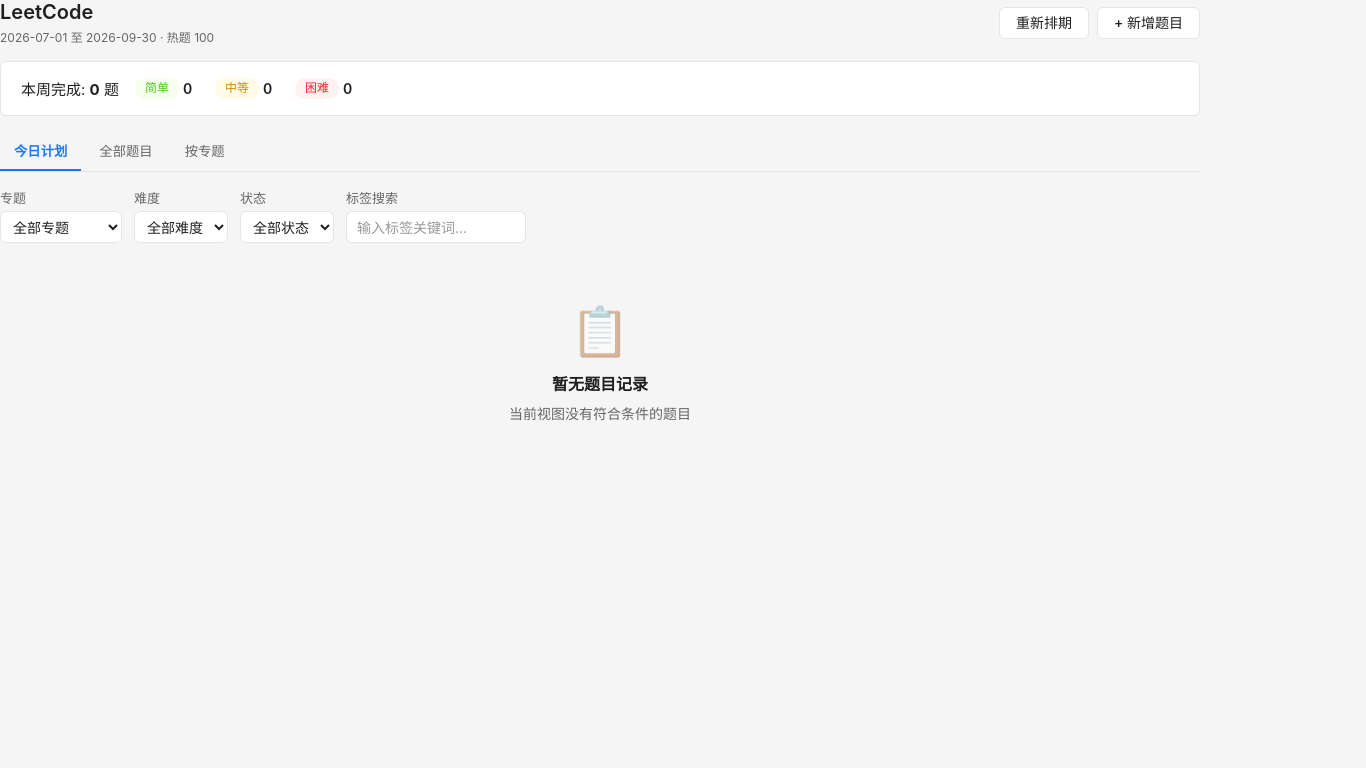
Test case: LeetCodePage › opens the reschedule dialog when a schedule already exists
The image size is (1366, 768).
Step 1. Click the button "重新排期" → (1044, 22), box top-left (999, 6), bottom-right (1089, 38)
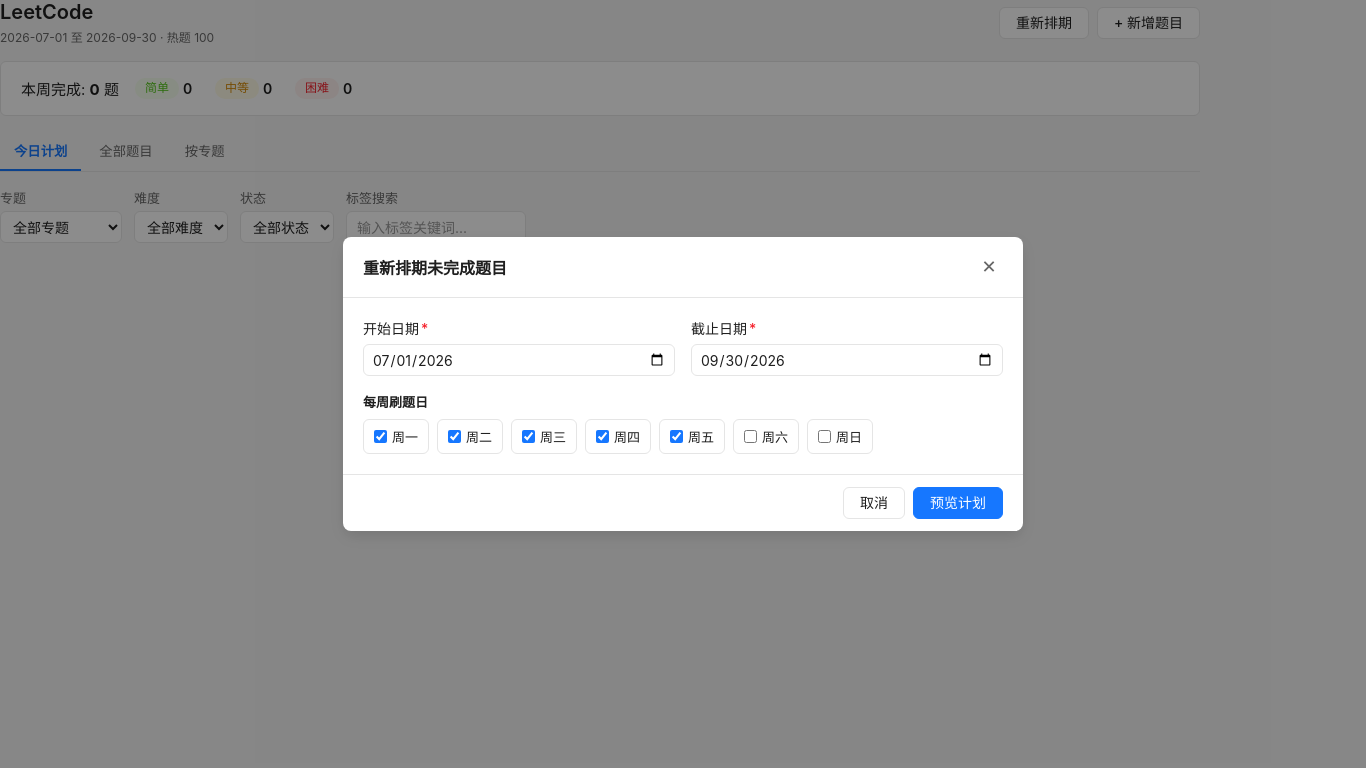
Result: the dialog shows "每周刷题日" at top-left (363, 394), bottom-right (428, 410)
